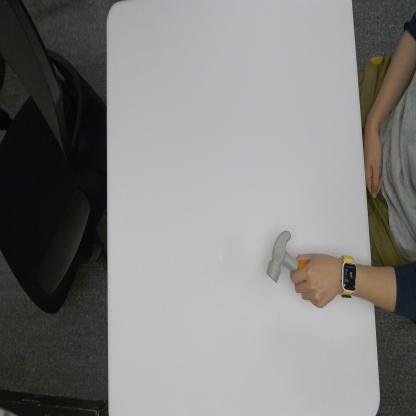Arm: (357, 264, 375, 303)
Hammer: (267, 228, 310, 284)
Hand: (290, 252, 341, 310)
